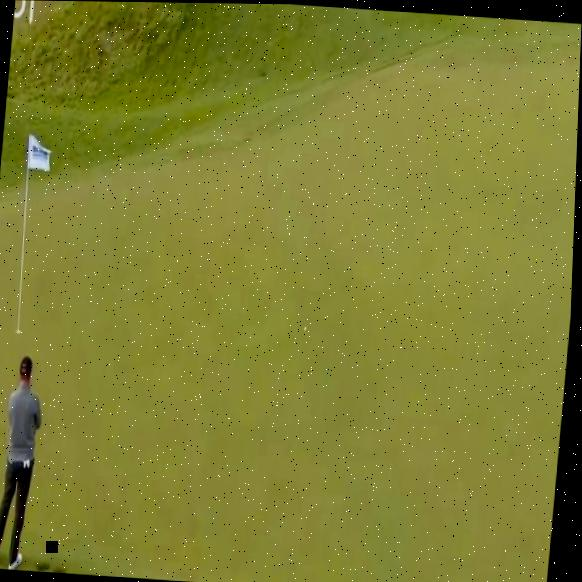GolfBall: (303, 320, 313, 333)
